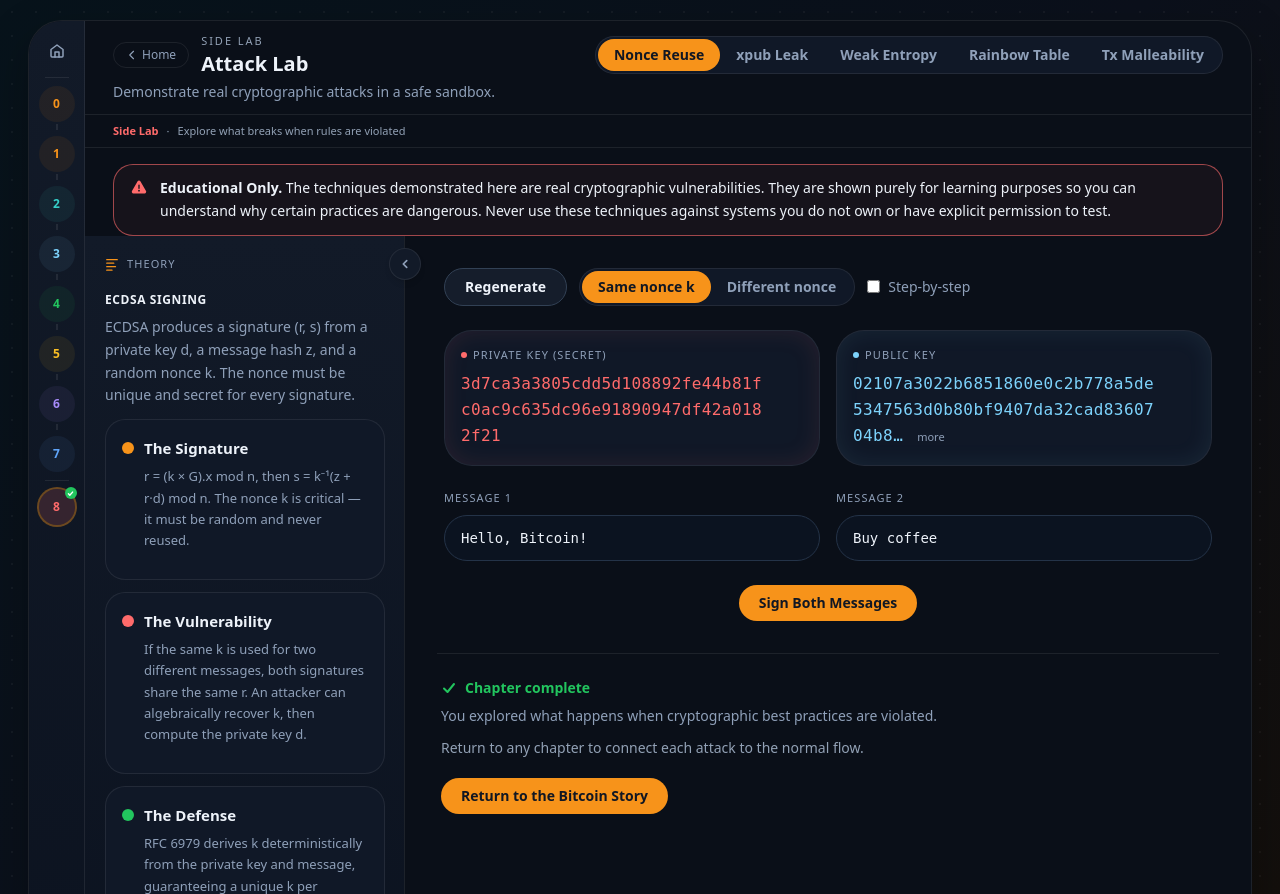
Test: AttackLab › switches to Weak Entropy tab and shows passphrase input
Click the tab "Weak Entropy": (889, 55) [824, 39, 953, 71]
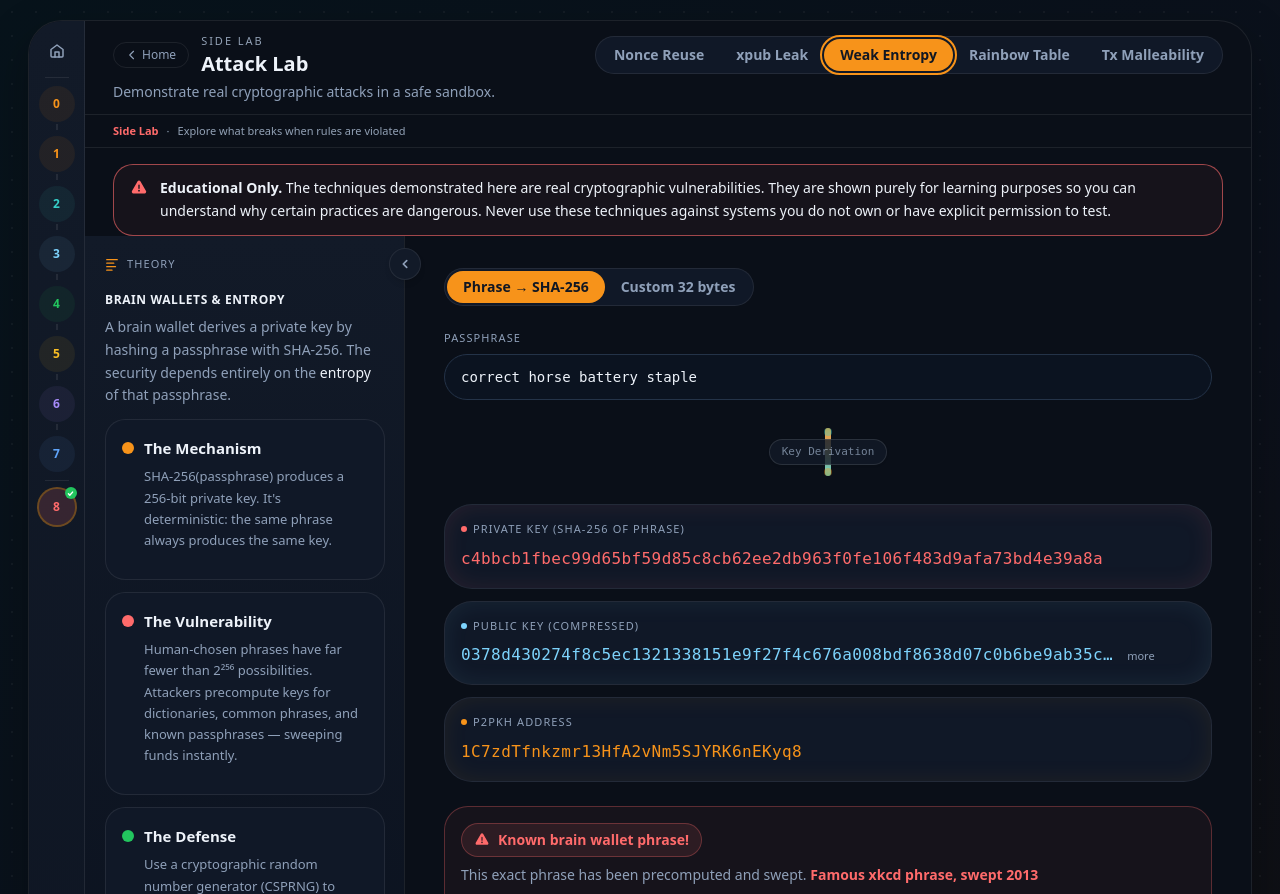
Expected: the field labelled "Passphrase" is shown, [444, 354, 1212, 400]
